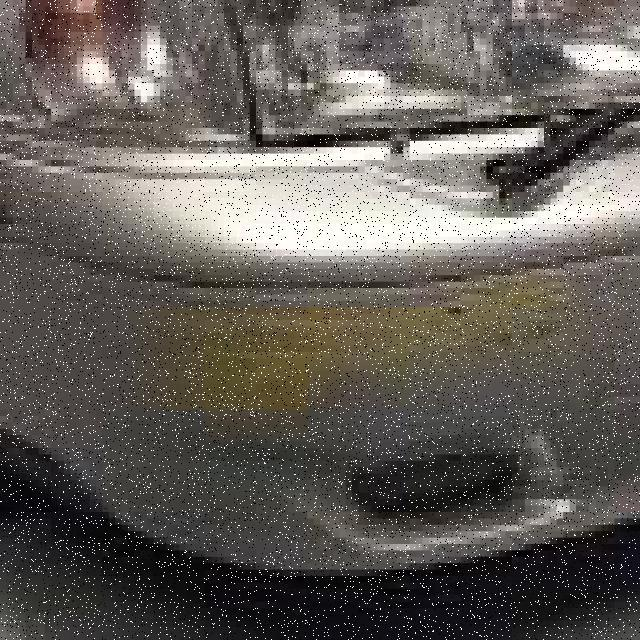front-bumper-dent: (0, 115, 634, 620)
